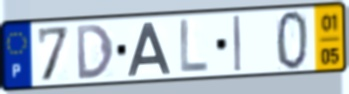0: (275, 9, 310, 72)
7: (36, 24, 72, 84)
A: (125, 21, 173, 78)
D: (74, 22, 116, 82)
I: (231, 14, 243, 74)
L: (178, 17, 210, 75)
